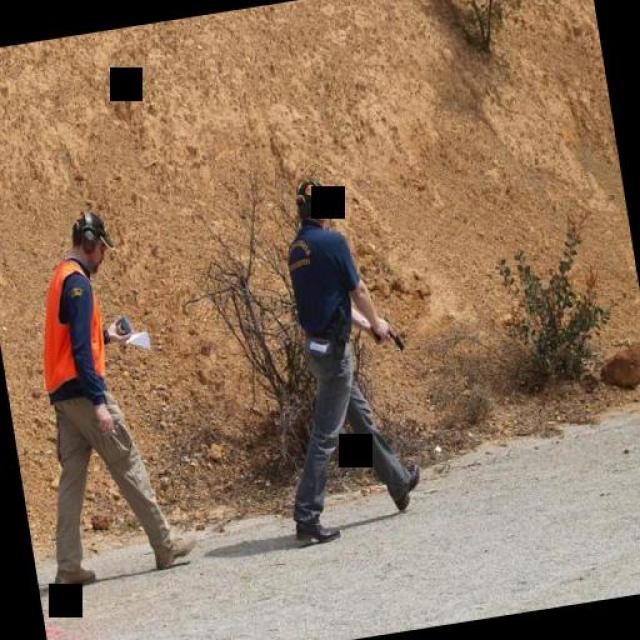gun: (366, 306, 406, 359)
